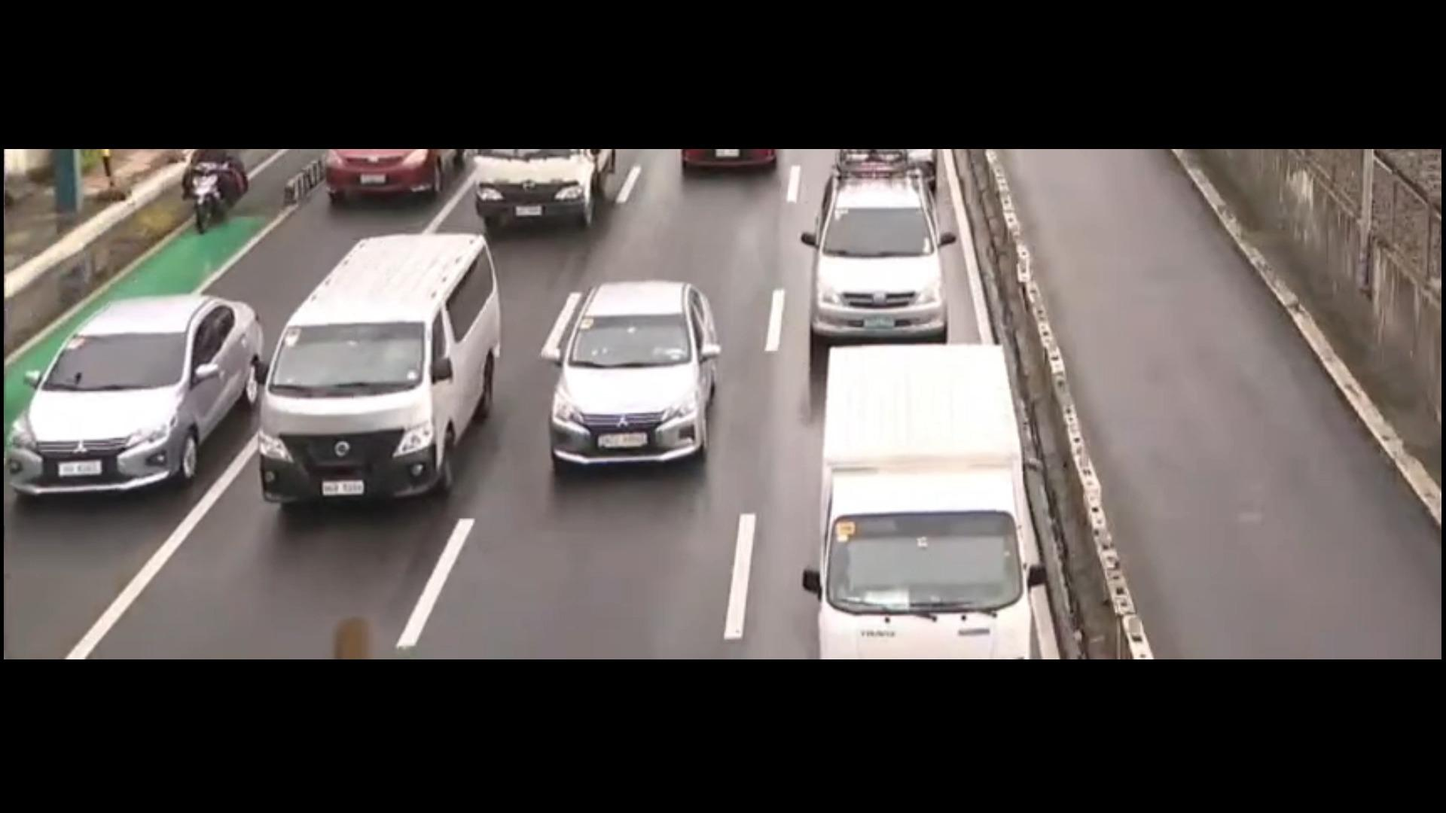Motorcycle: (174, 154, 259, 251)
SUV: (804, 155, 953, 351)
Sedan: (0, 275, 264, 521), (525, 273, 735, 483)
Truck: (796, 330, 1072, 657)
Van: (248, 234, 514, 533)
